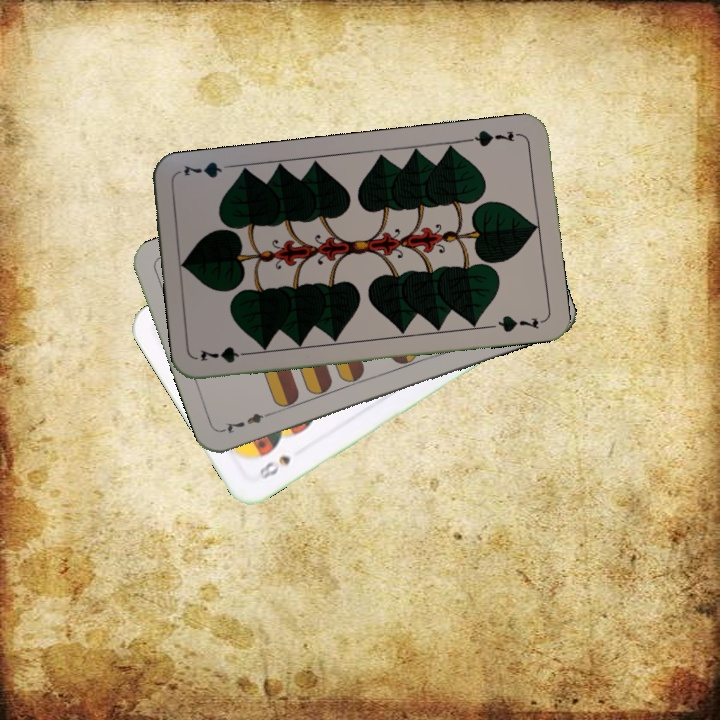E7: (219, 407, 276, 436)
G7: (464, 126, 523, 149), (196, 343, 255, 365)
S8: (252, 451, 293, 482)
